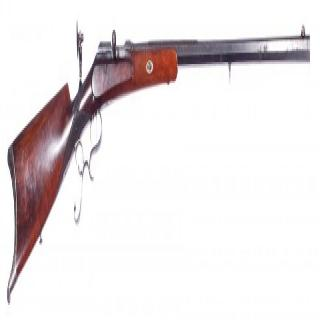gun: (2, 4, 312, 286)
